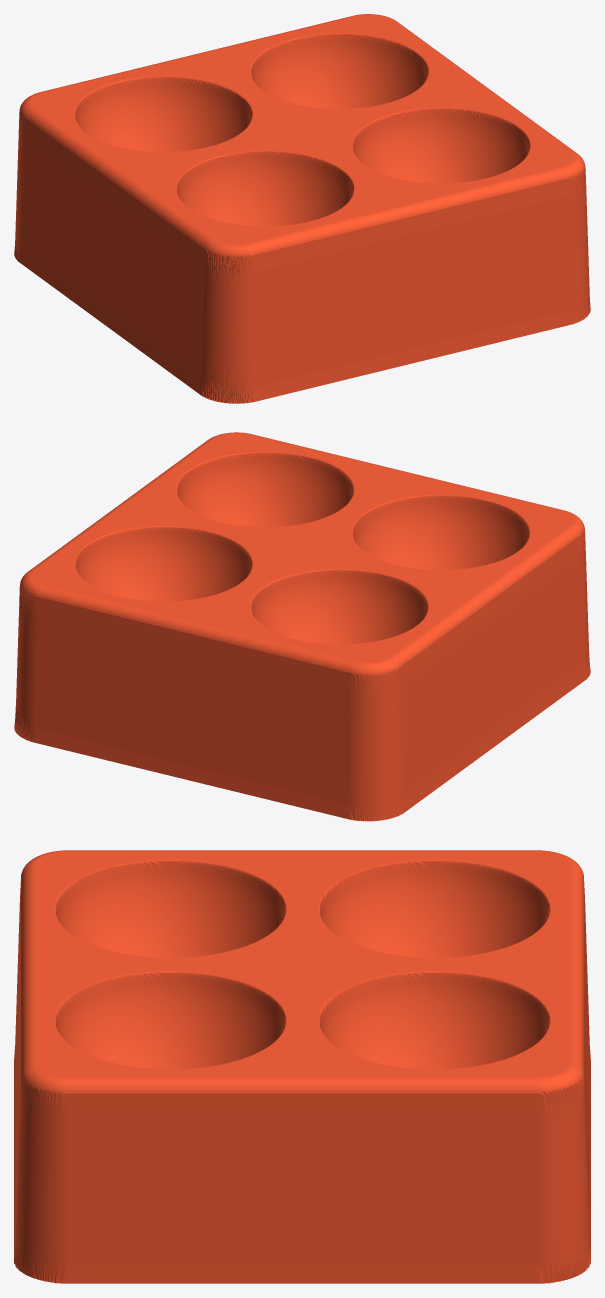
The model's file is mold.glb.
3 views of the same model, one above another, from view 1: azimuth 30°, elevation 25°; view 2: azimuth 150°, elevation 25°; view 3: azimuth 270°, elevation 25° (orthographic). The views are drawn at different scales.
Visible parts, largest first — view 1: geometry_0; view 2: geometry_0; view 3: geometry_0.
Boxes of the visible parts, <box> form: geometry_0: <box>14,14,590,403</box>; geometry_0: <box>14,432,590,821</box>; geometry_0: <box>14,850,590,1283</box>.
Size of the model in its own units: 0.0962 by 0.0363 by 0.0962.
